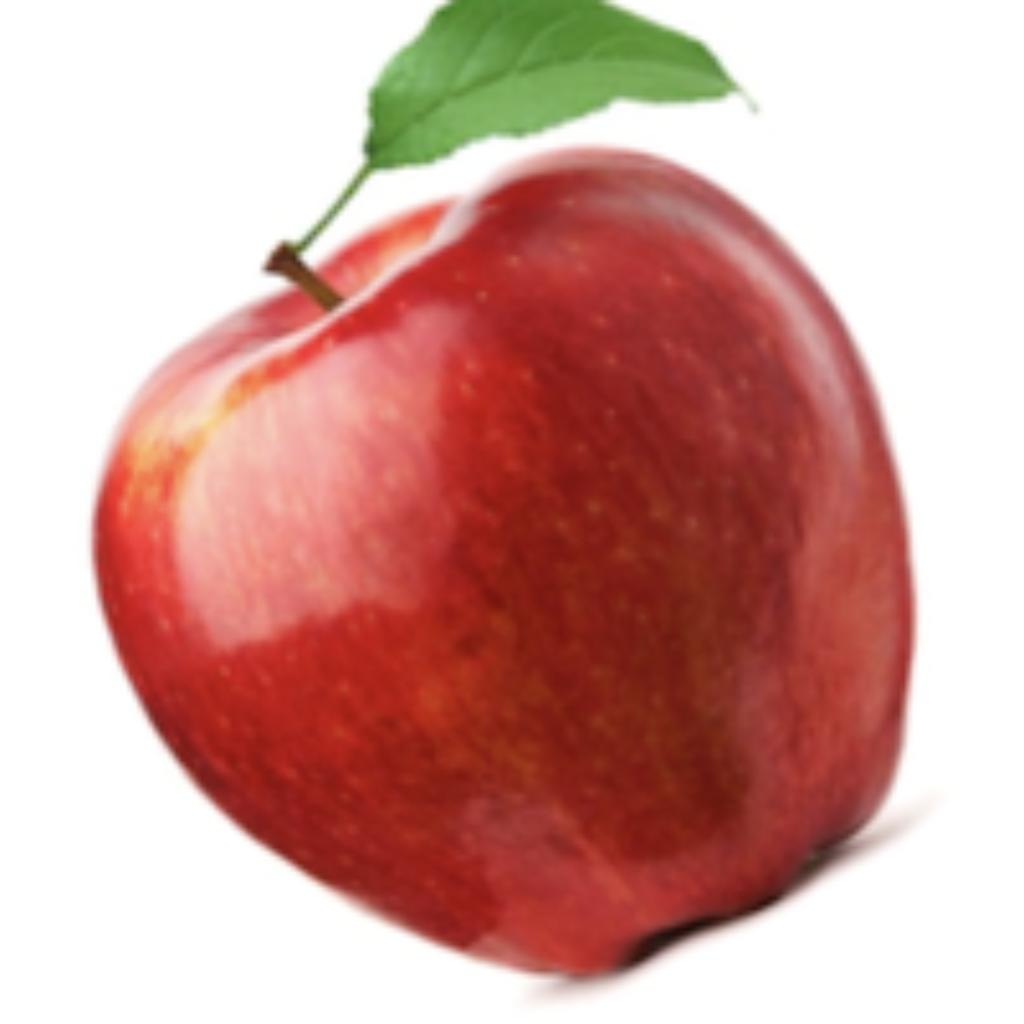apple: (82, 0, 942, 1009)
